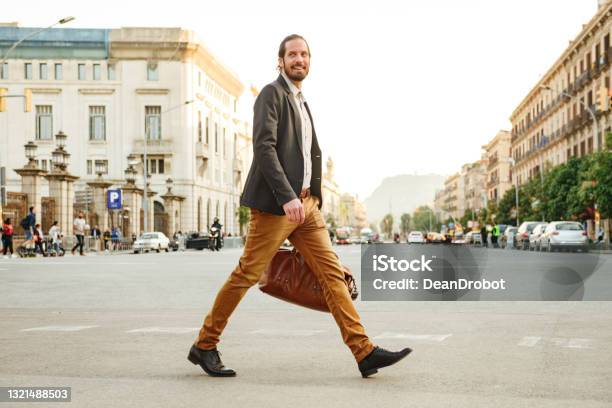car: (538, 220, 589, 253), (131, 227, 172, 254), (514, 219, 537, 251), (528, 221, 550, 251)
motor bike: (205, 226, 230, 253)
person: (182, 32, 415, 379), (69, 211, 91, 257), (210, 212, 222, 234)
